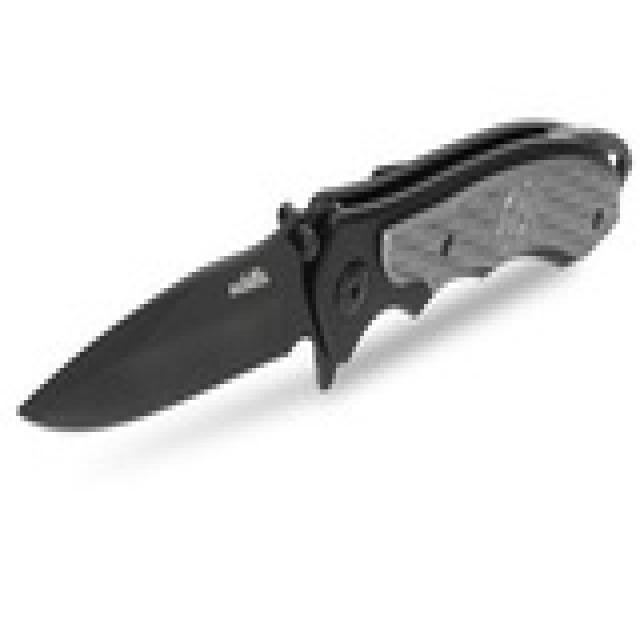Knife: (12, 91, 640, 448)
